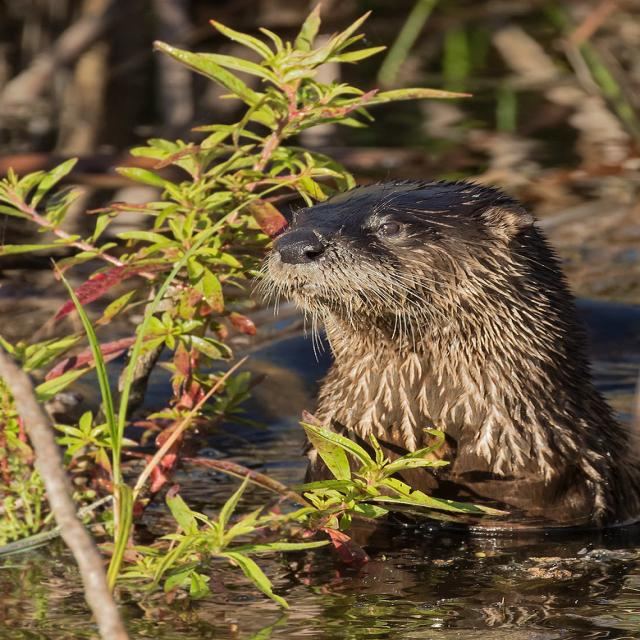otter: (278, 185, 610, 480)
